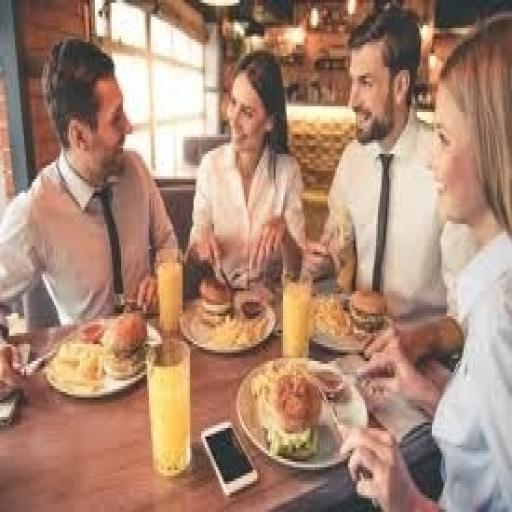eating: (5, 5, 512, 450)
